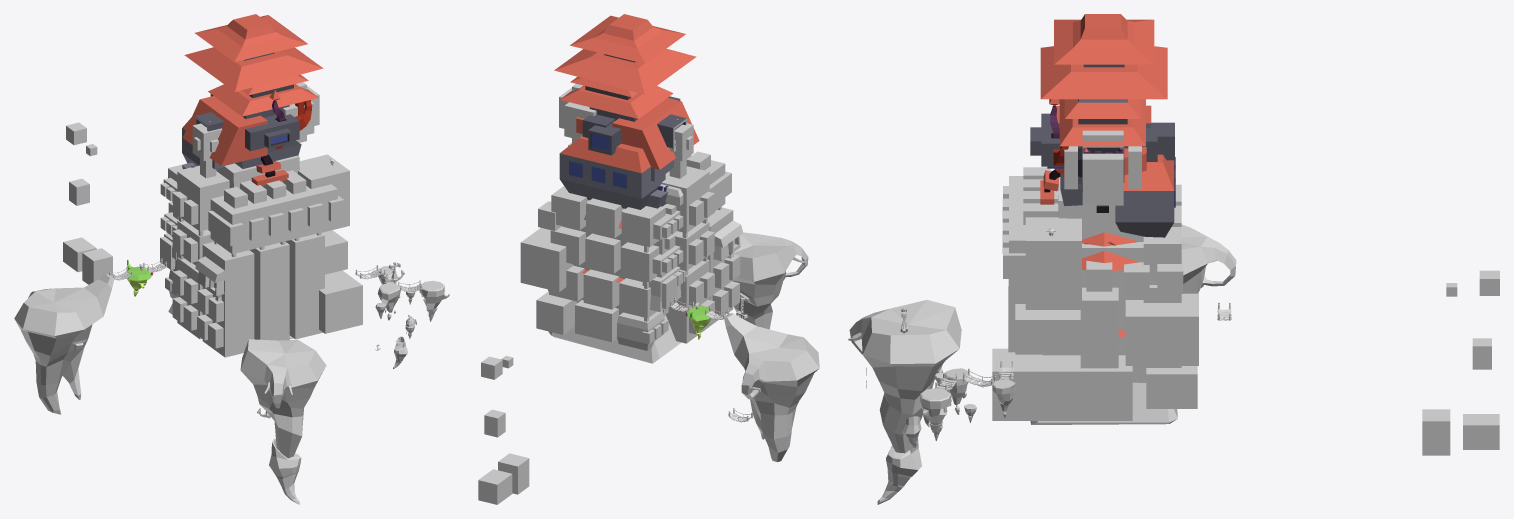
File: bridge1.fbx
3 views of the same model, side by side, from view 1: azimuth 30°, elevation 25°; view 2: azimuth 150°, elevation 25°; view 3: azimuth 270°, elevation 25° (orthographic). The views are drawn at different scales.
Parts seen in each view (by area): view 1: Land.003, Cube.035, Land.002, Body.016, Body.017, Cube.008, Body.019, Body.018, Body.009, Cube.005, Body.034, Body.007 (+15 smaller); view 2: Cube.008, Land.003, Cube.035, Land.002, Body.008, Cube.005, Body, Body.033, Body.031, Body.010, Body.021, Body.034 (+28 smaller); view 3: Cube.035, Land.002, Body.009, Body.007, Body, Body.008, Cube.008, Cube.005, Body.015, Body.014, Land.003, Body.010 (+13 smaller).
Boxes of the visible parts, x1=… form: Land.003: x1=14, y1=274, x2=114, y2=414; Cube.035: x1=184, y1=14, x2=323, y2=91; Land.002: x1=240, y1=339, x2=326, y2=458; Body.016: x1=210, y1=184, x2=337, y2=254; Body.017: x1=202, y1=242, x2=254, y2=357; Cube.008: x1=182, y1=96, x2=288, y2=186; Body.019: x1=249, y1=242, x2=289, y2=340; Body.018: x1=285, y1=233, x2=324, y2=339; Body.009: x1=319, y1=270, x2=362, y2=333; Cube.005: x1=208, y1=74, x2=318, y2=116; Body.034: x1=177, y1=166, x2=229, y2=231; Body.007: x1=298, y1=154, x2=349, y2=232; Cube.008: x1=559, y1=98, x2=699, y2=209; Land.003: x1=724, y1=313, x2=819, y2=461; Cube.035: x1=554, y1=14, x2=696, y2=94; Land.002: x1=733, y1=232, x2=808, y2=329; Body.008: x1=520, y1=228, x2=573, y2=291; Cube.005: x1=559, y1=77, x2=673, y2=118; Body: x1=548, y1=171, x2=681, y2=363; Body.033: x1=666, y1=158, x2=709, y2=343; Body.031: x1=575, y1=300, x2=618, y2=342; Body.010: x1=536, y1=291, x2=576, y2=334; Body.021: x1=621, y1=206, x2=665, y2=246; Body.034: x1=661, y1=166, x2=709, y2=233; Cube.035: x1=1040, y1=14, x2=1167, y2=102; Land.002: x1=849, y1=299, x2=961, y2=453; Body.009: x1=992, y1=348, x2=1132, y2=420; Body.007: x1=1025, y1=217, x2=1081, y2=309; Body: x1=1030, y1=177, x2=1177, y2=424; Body.008: x1=1125, y1=293, x2=1198, y2=365; Cube.008: x1=1040, y1=105, x2=1175, y2=245; Cube.005: x1=1059, y1=99, x2=1145, y2=146; Body.015: x1=1015, y1=304, x2=1082, y2=354; Body.014: x1=1080, y1=287, x2=1118, y2=368; Land.003: x1=1181, y1=224, x2=1236, y2=293; Body.010: x1=1146, y1=366, x2=1197, y2=408.
Bounding box in the file's own units: 3517 × 4091 × 4742.
